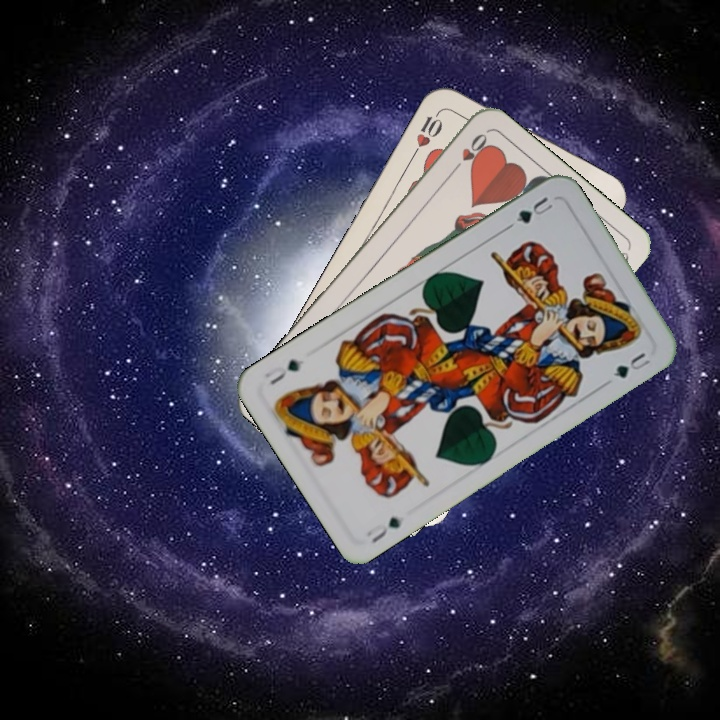GU: (504, 192, 556, 231), (362, 512, 404, 546)
H10: (408, 105, 446, 159)
HO: (446, 129, 491, 177)
